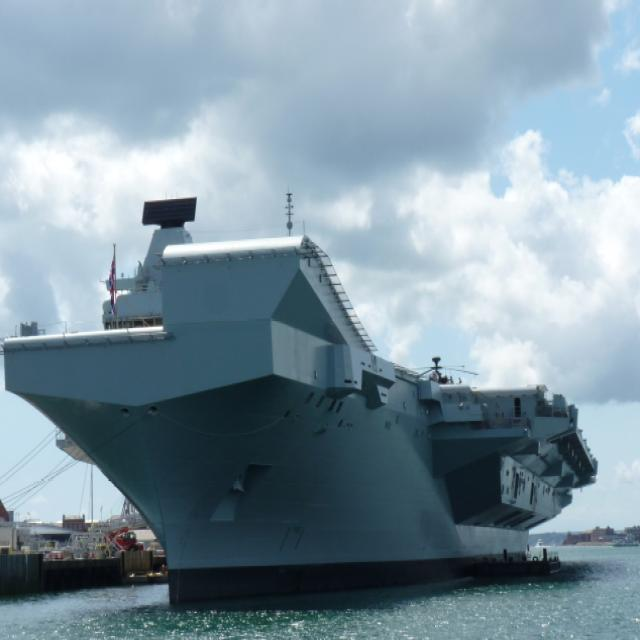Portanaves: (1, 163, 604, 620)
